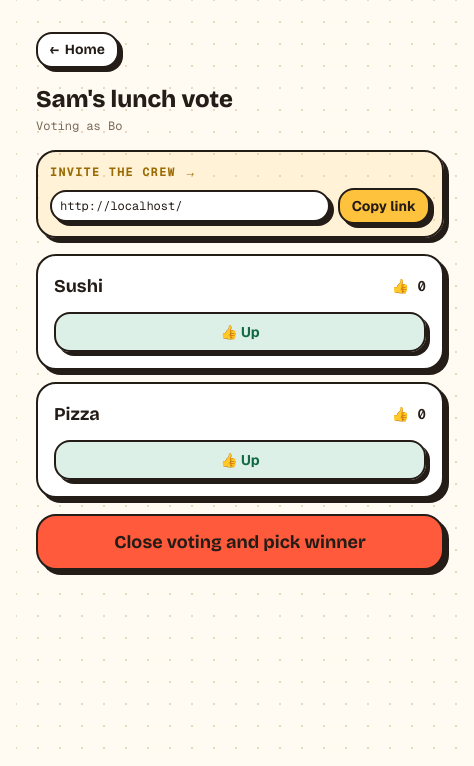
VoteRoom › shows an error when closing fails
This screenshot has width=474, height=766.
Step 1. Click the button "Close voting and pick winner" → (240, 542), box [36,514,444,570]
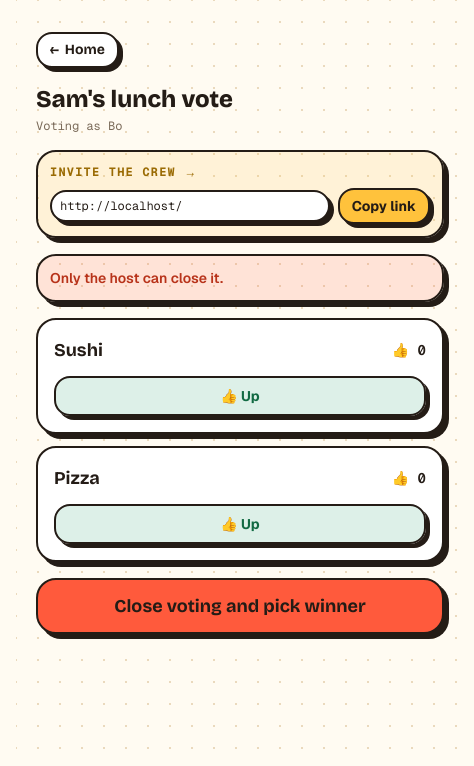
Expected: the message reads "Only the host can close it.", [50,269,223,287]
